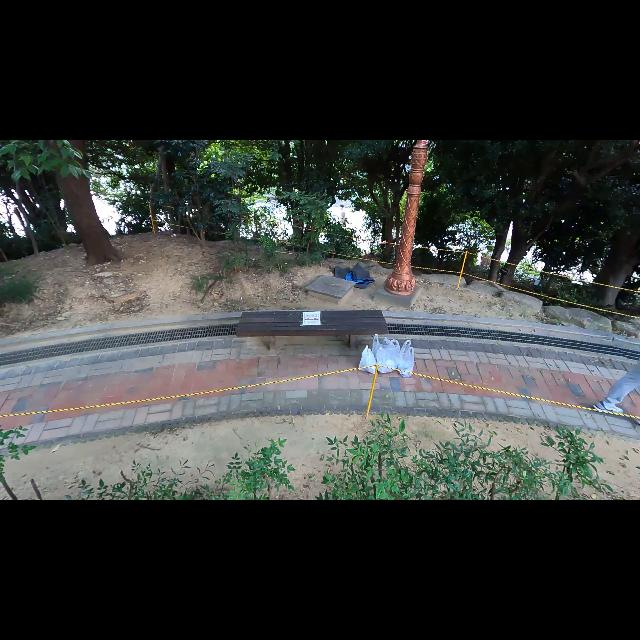trash: (331, 262, 375, 290), (369, 333, 399, 373), (394, 338, 416, 376), (376, 342, 398, 373), (359, 344, 377, 376)
